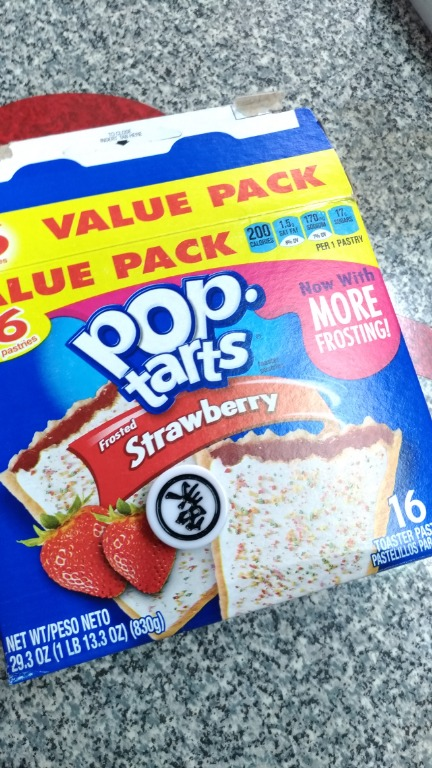b-elephant: (130, 464, 244, 564)
